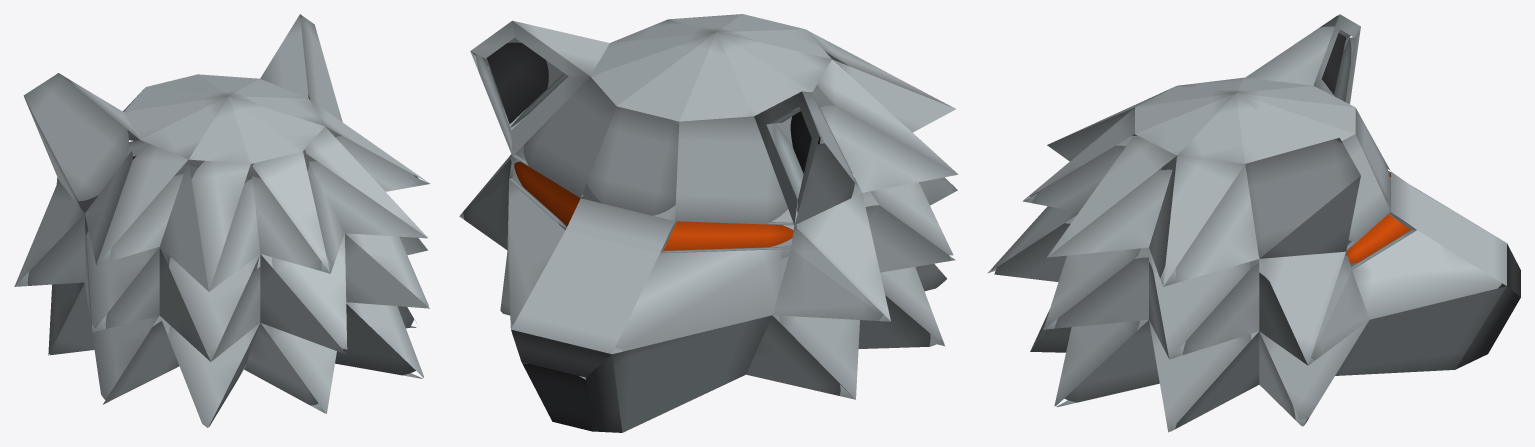
File: HoundHead.obj
The picture shows the model from 3 angles, left to right: view 1: azimuth 30°, elevation 25°; view 2: azimuth 150°, elevation 25°; view 3: azimuth 270°, elevation 25°; orthographic projection. The views are drawn at different scales.
Parts seen in each view (by area): view 1: sphere; view 2: sphere; view 3: sphere.
Part boxes in pixels (x1,y1,x2,y2): sphere: [14, 14, 430, 427]; sphere: [459, 14, 958, 432]; sphere: [987, 14, 1520, 432].
Size of the model in its own units: 0.5432 by 0.3948 by 0.665.
Materials: 1 (1 with a texture image).
